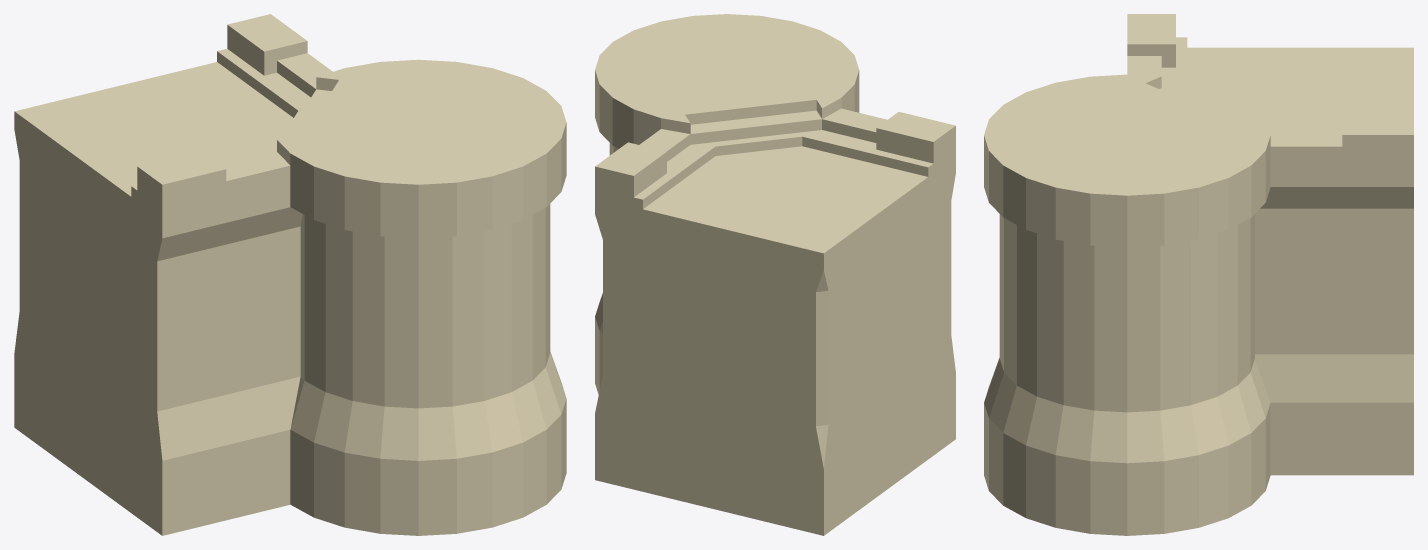
File: wallcornerhalftower.glb
The picture shows the model from 3 angles, left to right: view 1: azimuth 30°, elevation 25°; view 2: azimuth 150°, elevation 25°; view 3: azimuth 270°, elevation 25°; orthographic projection. The views are drawn at different scales.
Parts seen in each view (by area): view 1: wallCornerHalfTower; view 2: wallCornerHalfTower; view 3: wallCornerHalfTower.
Part boxes in pixels (x1=…): wallCornerHalfTower: x1=14, y1=14, x2=566, y2=535; wallCornerHalfTower: x1=595, y1=14, x2=955, y2=535; wallCornerHalfTower: x1=984, y1=14, x2=1413, y2=535.
Bounding box in the file's own units: 15 × 13.1 × 15.
